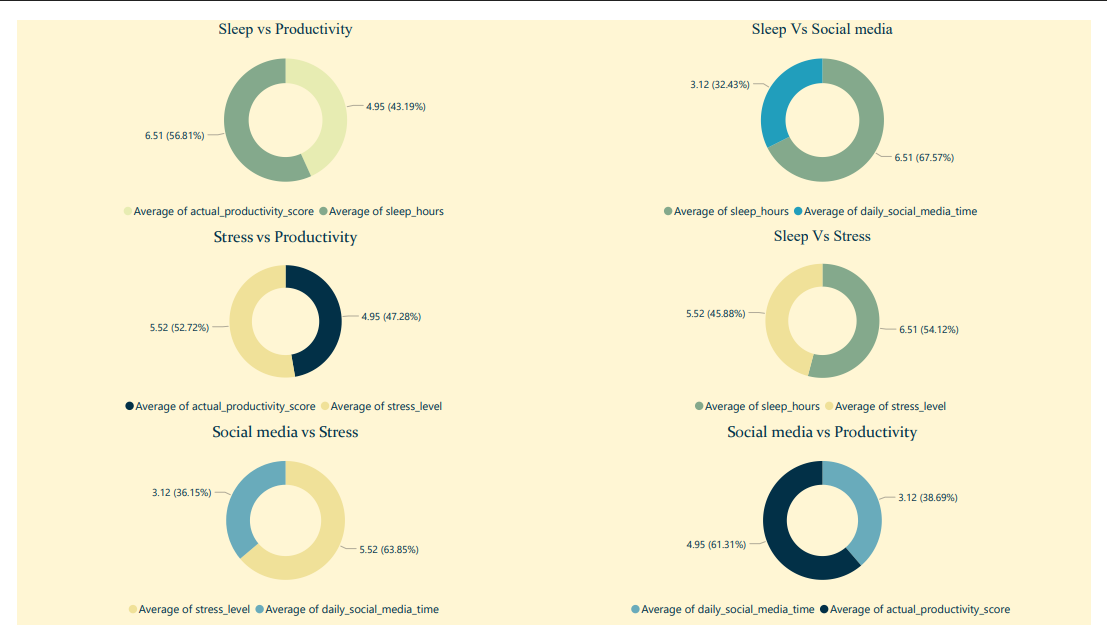

What the dashboard file says about the page in this screenshot:
{"tool":"powerbi","page":{"name":"Relationships","canvas":[1280,720],"ordinal":2},"visuals":[{"type":"donutChart","title":"Sleep vs Productivity","fields":{"Y":["Avg(social_media_vs_productivity.actual_productivity_score)","Avg(social_media_vs_productivity.sleep_hours)"]},"box":[0,50,416,228],"z":0},{"type":"donutChart","title":"Stress vs Productivity","fields":{"Y":["Avg(social_media_vs_productivity.actual_productivity_score)","Avg(social_media_vs_productivity.stress_level)"]},"box":[0,278,428,228],"z":1000},{"type":"donutChart","title":"Social media vs Stress","fields":{"Y":["Avg(social_media_vs_productivity.stress_level)","Avg(social_media_vs_productivity.daily_social_media_time)"]},"box":[0,506,418,214],"z":2000},{"type":"donutChart","title":"Sleep Vs Social media ","fields":{"Y":["Avg(social_media_vs_productivity.sleep_hours)","Avg(social_media_vs_productivity.daily_social_media_time)"]},"box":[416,50,452,228],"z":3000},{"type":"donutChart","title":"Sleep Vs Stress","fields":{"Y":["Avg(social_media_vs_productivity.sleep_hours)","Avg(social_media_vs_productivity.stress_level)"]},"box":[418,278,452,228],"z":4000},{"type":"donutChart","title":"Social media vs Productivity ","fields":{"Y":["Avg(social_media_vs_productivity.daily_social_media_time)","Avg(social_media_vs_productivity.actual_productivity_score)"]},"box":[416,506,454,214],"z":6000}]}

Visuals, with their boxes in screenshot pixels (x1, y1, x2, y2), scaled from the page's 1280x720 canvas onto the 1107x636 screenshot:
"Sleep vs Productivity" donutChart: (0, 44, 360, 246)
"Stress vs Productivity" donutChart: (0, 246, 370, 447)
"Social media vs Stress" donutChart: (0, 447, 362, 635)
"Sleep Vs Social media " donutChart: (360, 44, 751, 246)
"Sleep Vs Stress" donutChart: (362, 246, 752, 447)
"Social media vs Productivity " donutChart: (360, 447, 752, 635)
